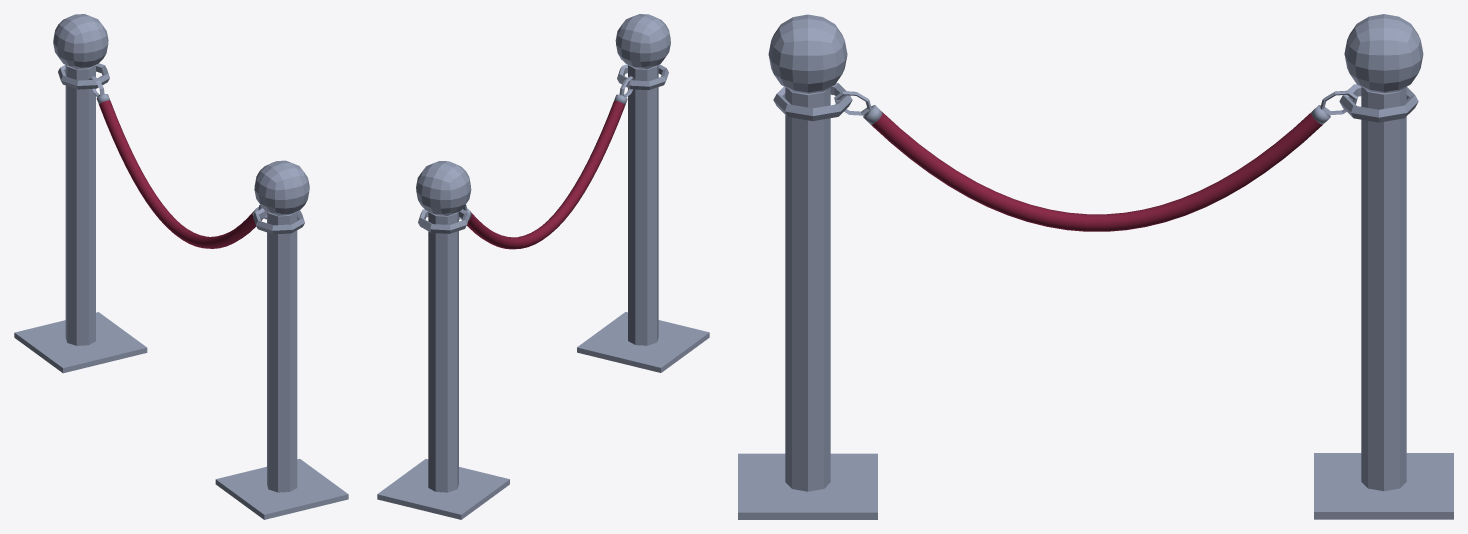
Rendered from rope.fbx.
3 renders of one model, left to right at view 1: azimuth 30°, elevation 25°; view 2: azimuth 150°, elevation 25°; view 3: azimuth 270°, elevation 25°, orthographic. The views are drawn at different scales.
Visible parts, largest first — view 1: NurbsPath; view 2: NurbsPath; view 3: NurbsPath.
Boxes of the visible parts, x1,y1,x2,y2 form: NurbsPath: [14, 14, 348, 519]; NurbsPath: [377, 14, 709, 519]; NurbsPath: [738, 14, 1453, 519].
Bounding box in the file's own units: 63.89 × 236 × 325.
